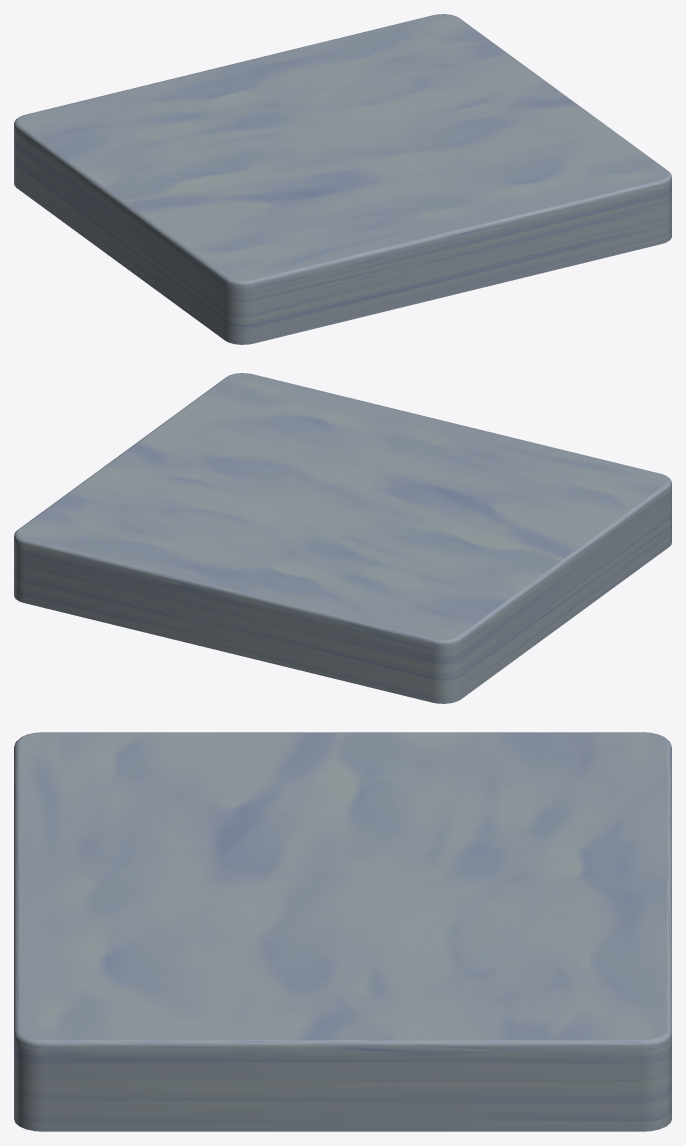
The model's file is Island_3_beveled.glb.
3 renders of one model, top to bottom at view 1: azimuth 30°, elevation 25°; view 2: azimuth 150°, elevation 25°; view 3: azimuth 270°, elevation 25°, orthographic. The views are drawn at different scales.
Parts seen in each view (by area): view 1: geometry_0; view 2: geometry_0; view 3: geometry_0.
Part boxes in pixels (x1,y1,x2,y2): geometry_0: [14, 14, 671, 344]; geometry_0: [14, 373, 671, 703]; geometry_0: [14, 732, 671, 1131].
Bounding box in the file's own units: 14.9 × 2 × 13.3.
1 material, 1 textured.
